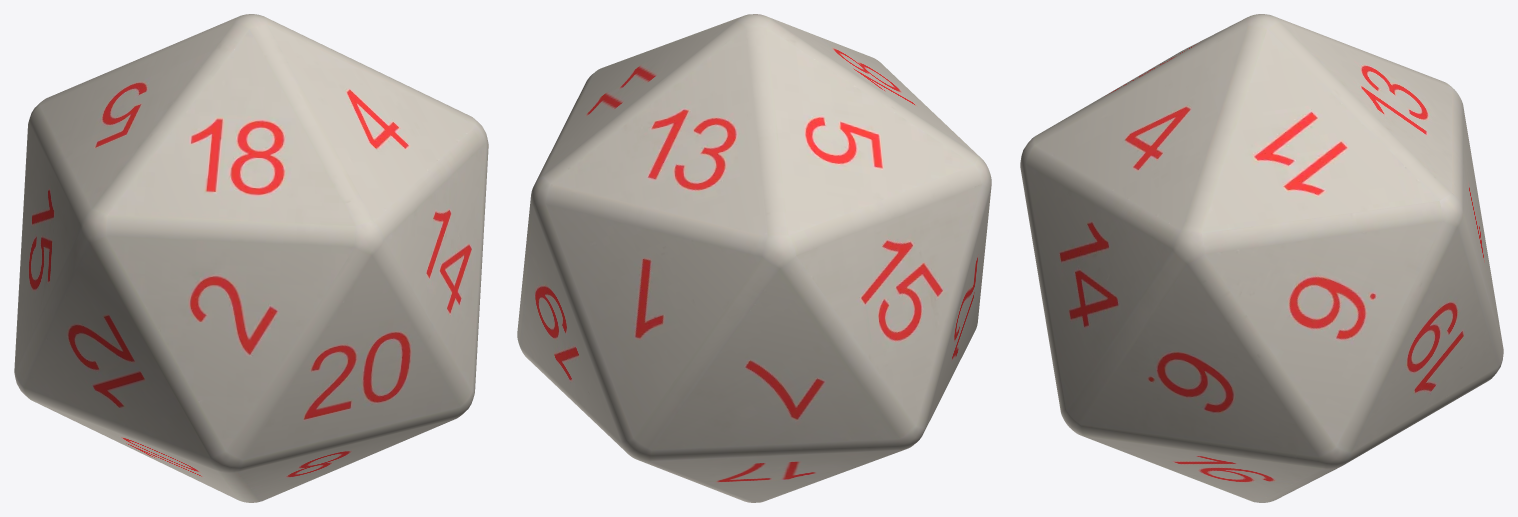
The model's file is d20-metal-compressed.glb.
3 views of the same model, side by side, from view 1: azimuth 30°, elevation 25°; view 2: azimuth 150°, elevation 25°; view 3: azimuth 270°, elevation 25° (orthographic).
Visible parts, largest first — view 1: d20_metal; view 2: d20_metal; view 3: d20_metal.
Boxes of the visible parts, x1=… form: d20_metal: x1=14, y1=14, x2=488, y2=502; d20_metal: x1=517, y1=14, x2=991, y2=502; d20_metal: x1=1020, y1=14, x2=1503, y2=502.
Size of the model in its own units: 1.85 by 2.13 by 1.93.
Materials: 1 (1 with a texture image).
